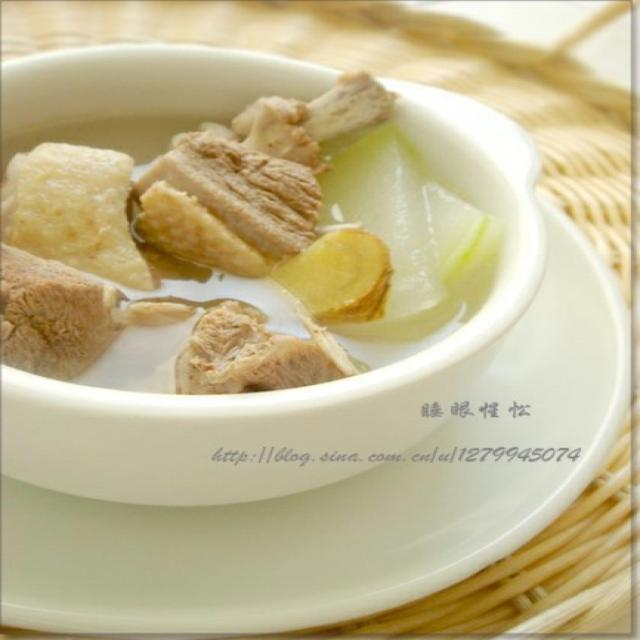汤锅炖物: (7, 29, 541, 458)
